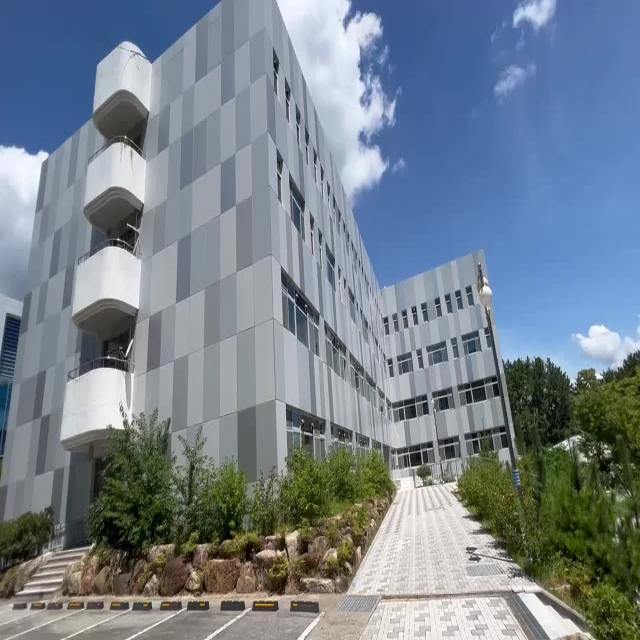building: (17, 50, 477, 468)
